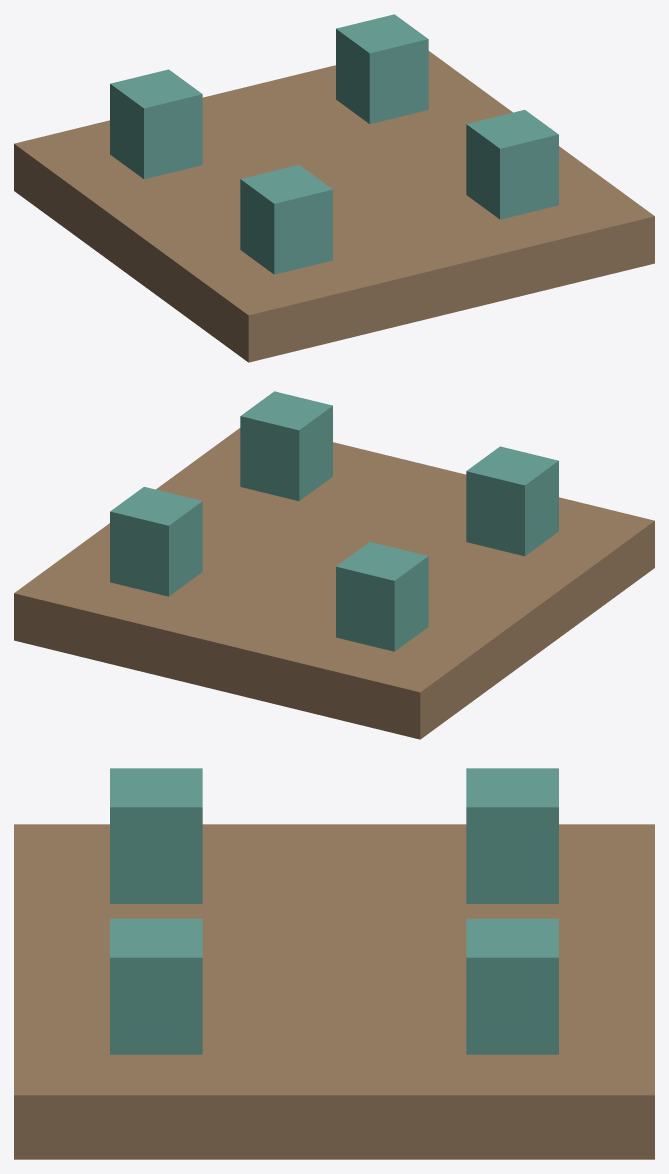
Rendered from Prop_DS_Crop_Kelpweed_S1_V0.glb.
The picture shows the model from 3 angles, top to bottom: view 1: azimuth 30°, elevation 25°; view 2: azimuth 150°, elevation 25°; view 3: azimuth 270°, elevation 25°; orthographic projection. The views are drawn at different scales.
Parts seen in each view (by area): view 1: Prop_DS_Crop_Kelpweed_S1_V0; view 2: Prop_DS_Crop_Kelpweed_S1_V0; view 3: Prop_DS_Crop_Kelpweed_S1_V0.
Part boxes in pixels (box(x1,y1,x2,y2)): Prop_DS_Crop_Kelpweed_S1_V0: box(14, 14, 654, 362); Prop_DS_Crop_Kelpweed_S1_V0: box(14, 391, 654, 739); Prop_DS_Crop_Kelpweed_S1_V0: box(14, 768, 654, 1159).
Size of the model in its own units: 0.9 by 0.25 by 0.9.
